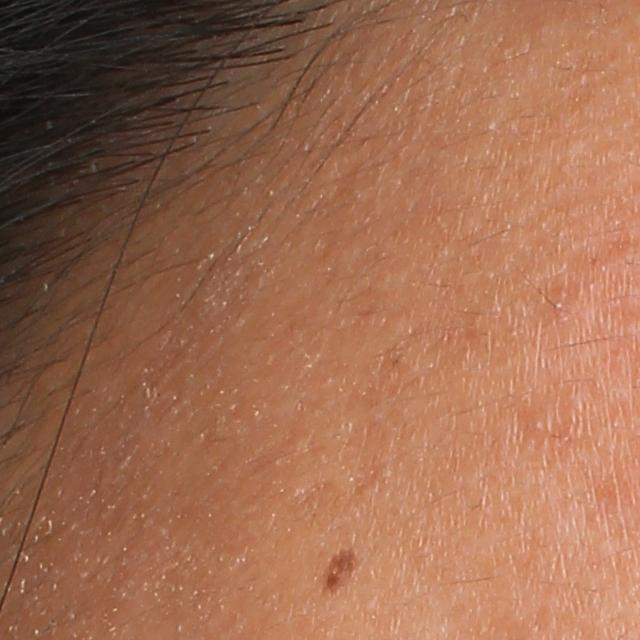nevus: (320, 547, 359, 601)
